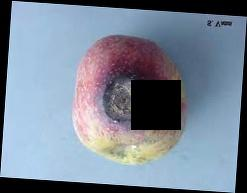rotten apple: (66, 35, 190, 167)
